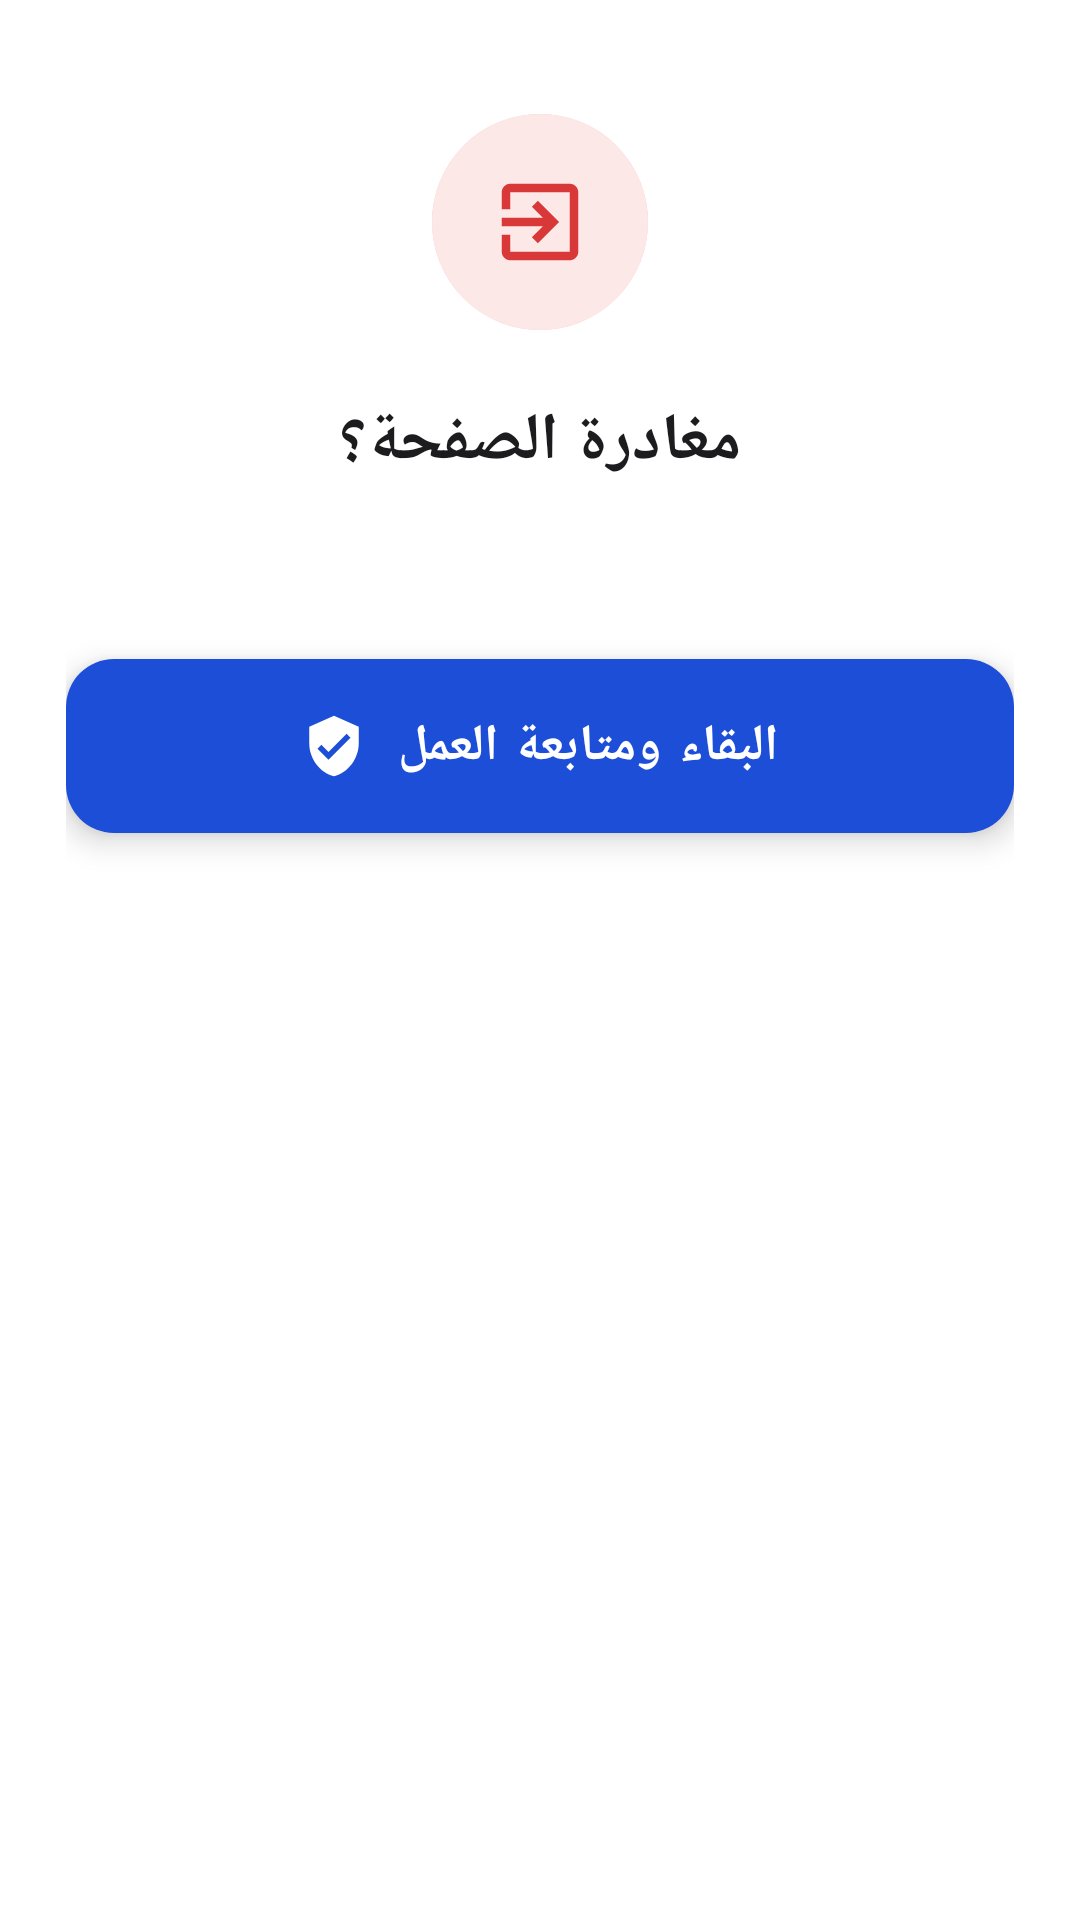

Point at icon controls on the screen. Image size 1080×1920, points as (x=x, y=y).
leave: (x=540, y=222)
